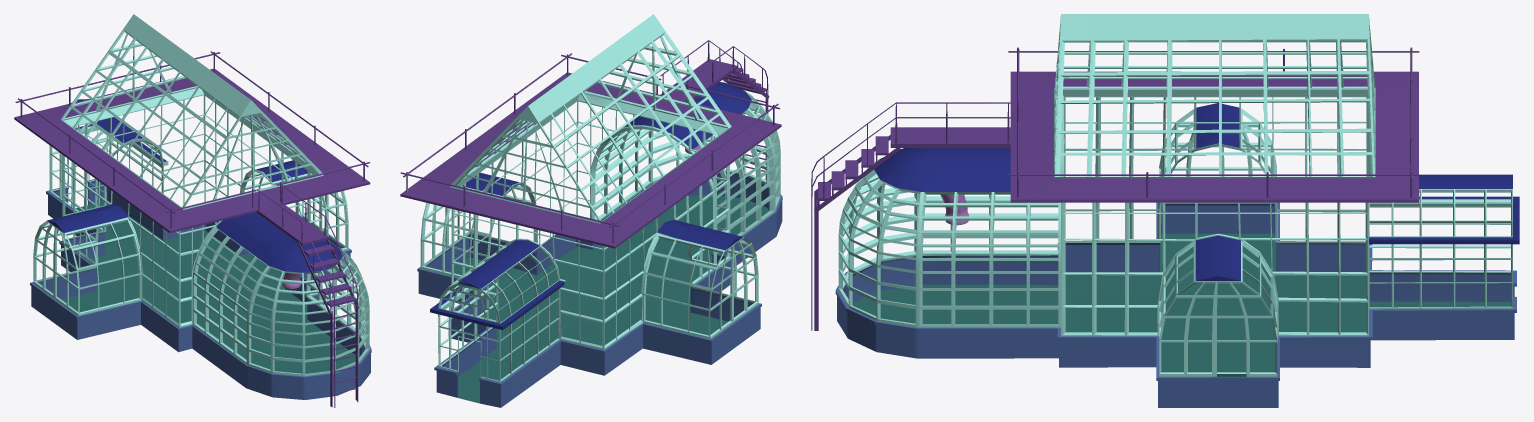
The model's file is Greenhouse_con_pipe.fbx.
3 views of the same model, side by side, from view 1: azimuth 30°, elevation 25°; view 2: azimuth 150°, elevation 25°; view 3: azimuth 270°, elevation 25° (orthographic). The views are drawn at different scales.
Parts seen in each view (by area): view 1: Object003; view 2: Object003; view 3: Object003.
Part boxes in pixels (<box>): Object003: <box>14,14,371,407</box>; Object003: <box>400,14,782,407</box>; Object003: <box>811,14,1519,407</box>.
Size of the model in its own units: 21.37 by 17.5 by 36.38.
